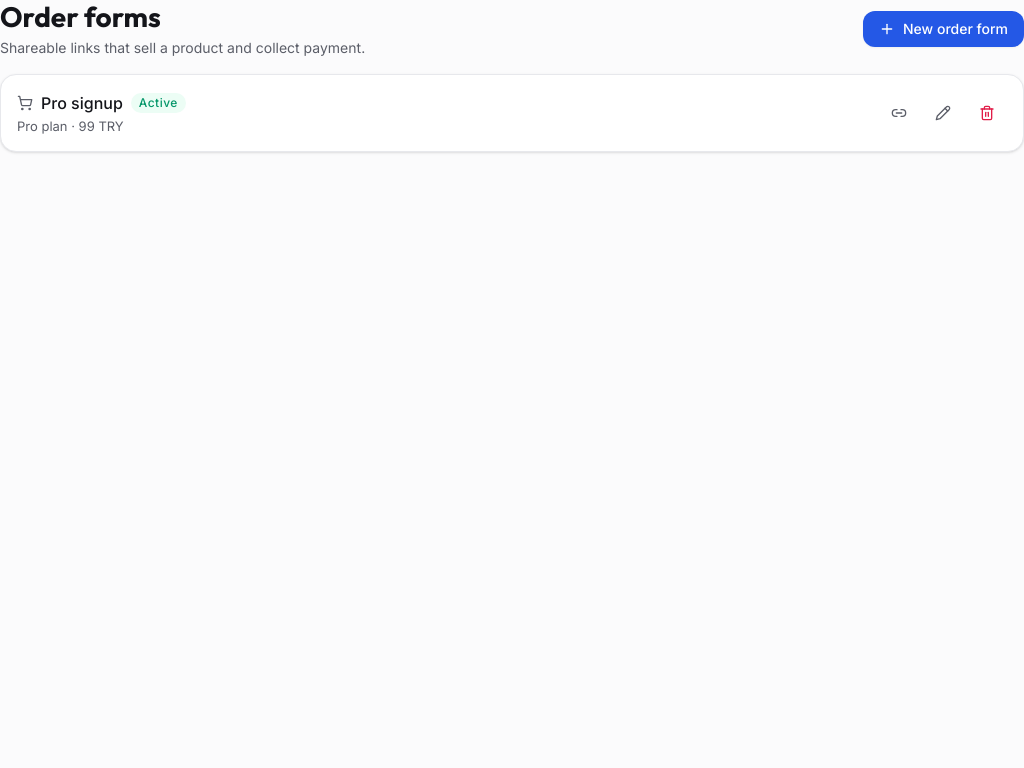
Test: OrderFormsPage › loads the saved phone settings on edit (does not reset to defaults)
The width and height of the screenshot is (1024, 768).
Expected: the text "Pro signup" is shown, [41,91,123,115]
Click the button titled "Edit": (943, 113) [923,97,963,129]
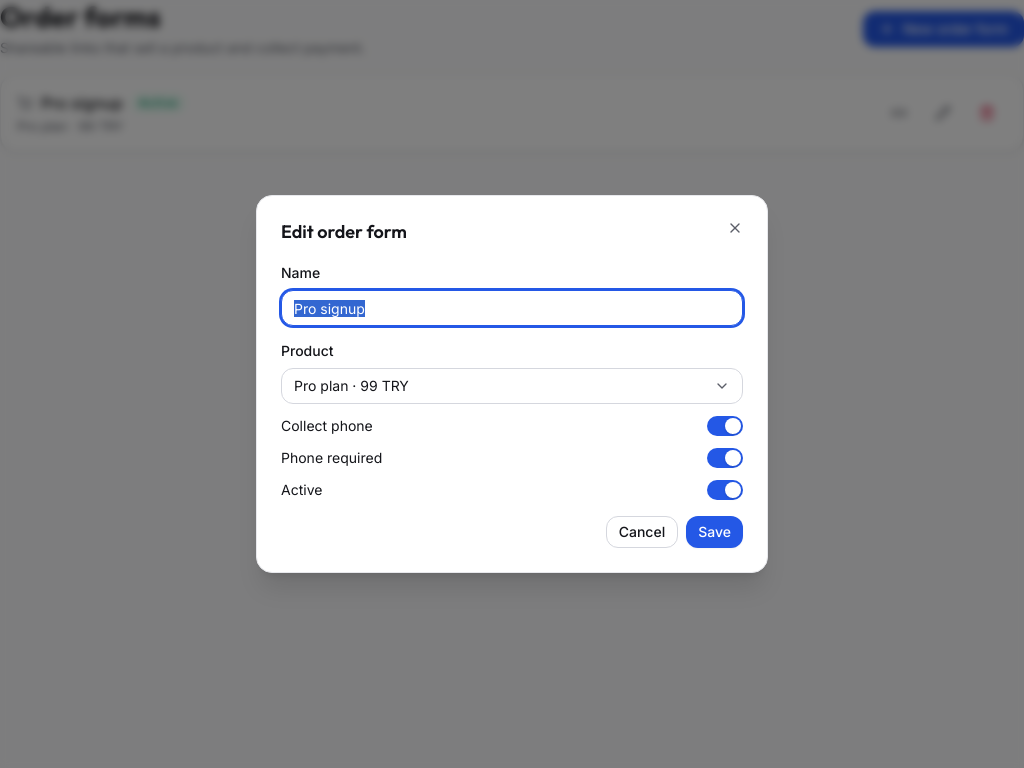
Result: the switch in the row of "Phone required" is checked at [707,448,743,468]
